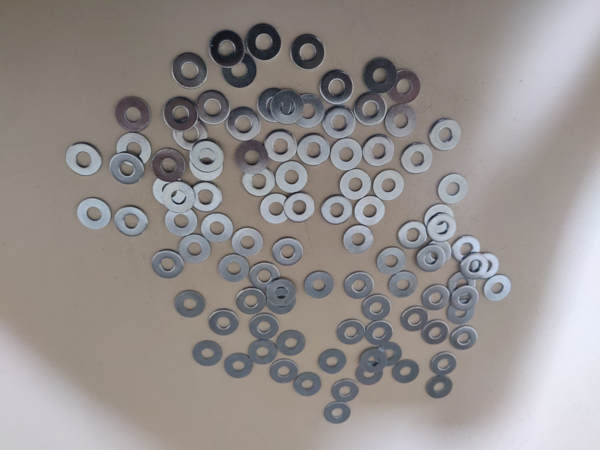circle: (246, 23, 283, 61), (209, 30, 246, 68), (171, 53, 209, 89), (116, 96, 152, 133), (257, 86, 293, 123), (290, 34, 326, 71), (172, 116, 209, 151), (234, 140, 269, 176), (292, 92, 326, 129), (195, 90, 230, 125), (320, 70, 355, 105), (227, 107, 262, 142), (67, 142, 103, 176), (271, 89, 305, 125), (189, 139, 224, 173), (153, 148, 187, 183), (117, 132, 152, 166), (388, 69, 422, 104), (223, 53, 257, 88), (164, 96, 197, 132), (365, 57, 398, 93), (323, 106, 357, 140), (76, 197, 111, 230), (386, 103, 419, 138), (190, 147, 223, 181), (297, 133, 331, 166), (354, 92, 387, 126), (115, 205, 149, 237), (111, 153, 145, 185), (430, 118, 462, 152), (260, 193, 294, 225), (242, 166, 276, 198), (402, 142, 434, 175), (321, 195, 354, 227), (265, 130, 298, 162), (331, 137, 363, 170), (363, 135, 396, 167), (164, 206, 198, 237), (191, 181, 223, 213), (163, 181, 196, 212), (284, 193, 317, 224), (276, 162, 309, 193), (219, 253, 251, 284), (437, 173, 469, 204), (340, 168, 371, 200), (272, 237, 305, 267), (249, 261, 280, 292), (374, 170, 405, 201), (202, 213, 234, 243), (233, 227, 265, 257), (304, 270, 336, 300), (151, 251, 184, 280), (153, 176, 186, 205), (355, 196, 386, 226), (179, 235, 211, 264), (397, 221, 430, 249), (425, 204, 455, 234), (343, 225, 374, 254), (208, 309, 240, 337), (175, 291, 207, 319), (266, 287, 298, 315), (389, 270, 419, 299), (267, 278, 298, 306), (377, 247, 408, 275), (453, 235, 482, 264), (345, 271, 375, 299), (362, 293, 391, 321), (447, 270, 476, 298), (428, 214, 457, 242), (471, 253, 501, 280), (275, 331, 306, 357), (422, 284, 451, 311), (460, 253, 489, 280), (417, 245, 446, 272), (193, 341, 223, 367), (236, 288, 266, 314), (338, 319, 366, 346), (248, 339, 277, 365), (251, 314, 280, 340), (483, 275, 512, 301), (424, 240, 453, 266), (446, 300, 476, 325), (422, 320, 450, 346), (366, 320, 394, 346), (224, 354, 253, 379), (451, 286, 480, 311), (402, 307, 430, 332), (319, 350, 347, 375), (270, 359, 298, 384), (424, 376, 453, 400), (360, 348, 386, 374), (451, 327, 477, 352), (393, 360, 420, 384), (376, 343, 402, 367), (324, 401, 351, 424), (332, 380, 359, 403), (430, 353, 457, 376), (294, 374, 322, 396), (356, 364, 383, 386)
